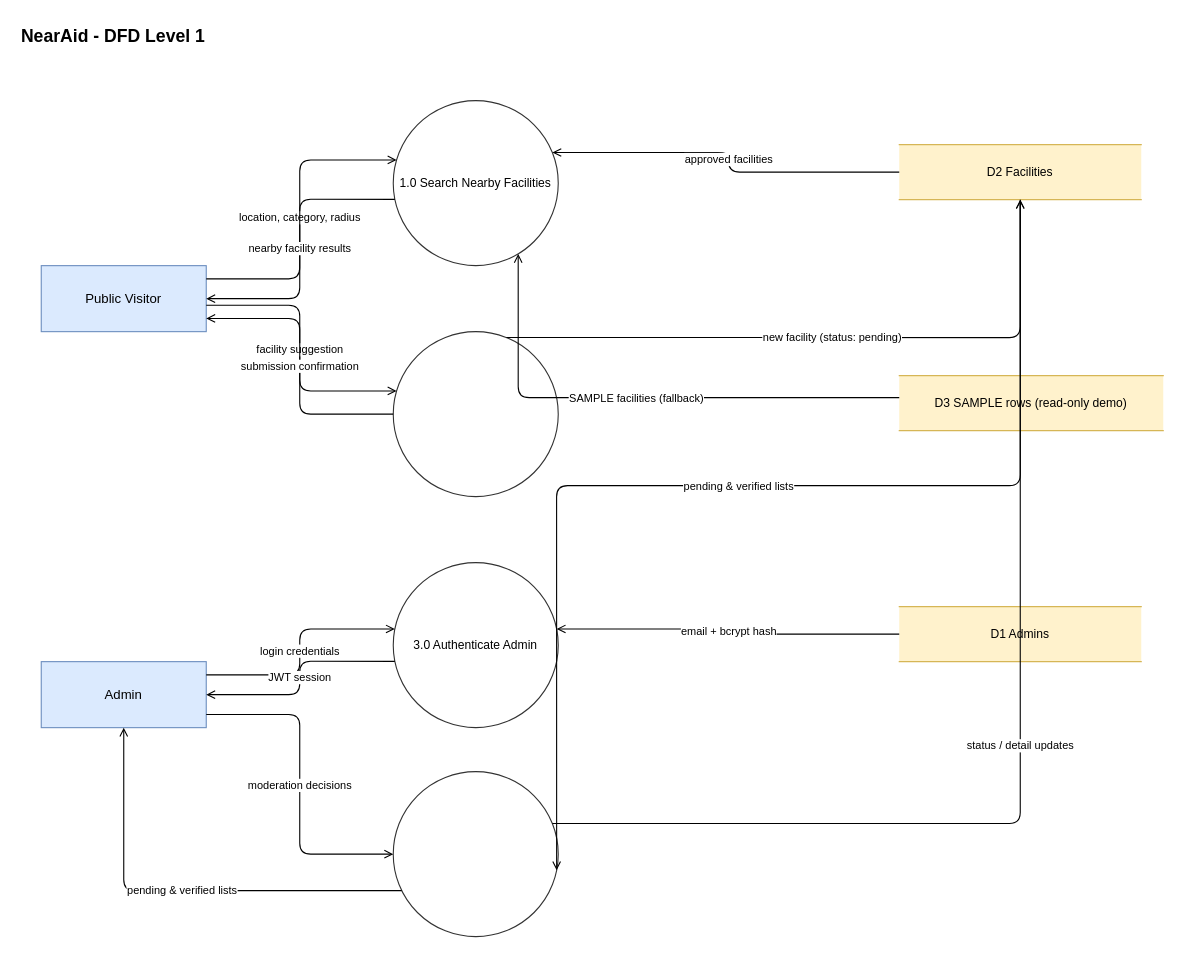
Some shapes in this 1183 by 956 pixel diagram are drawn without their labels. Here are the shapes that lost their labels. From the top down, the centre of each, then its label:
At [475,414]: "2.0 Suggest Facility".
At [475,854]: "4.0 Moderate Submissions".
